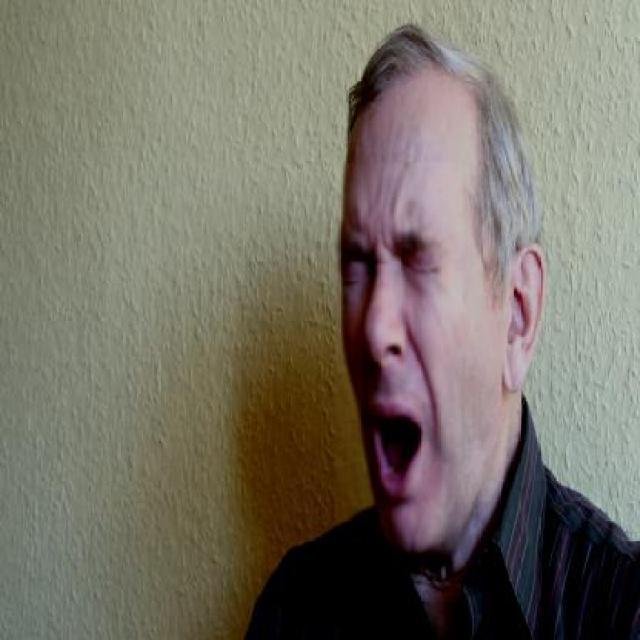sleepy: (329, 223, 468, 516)
